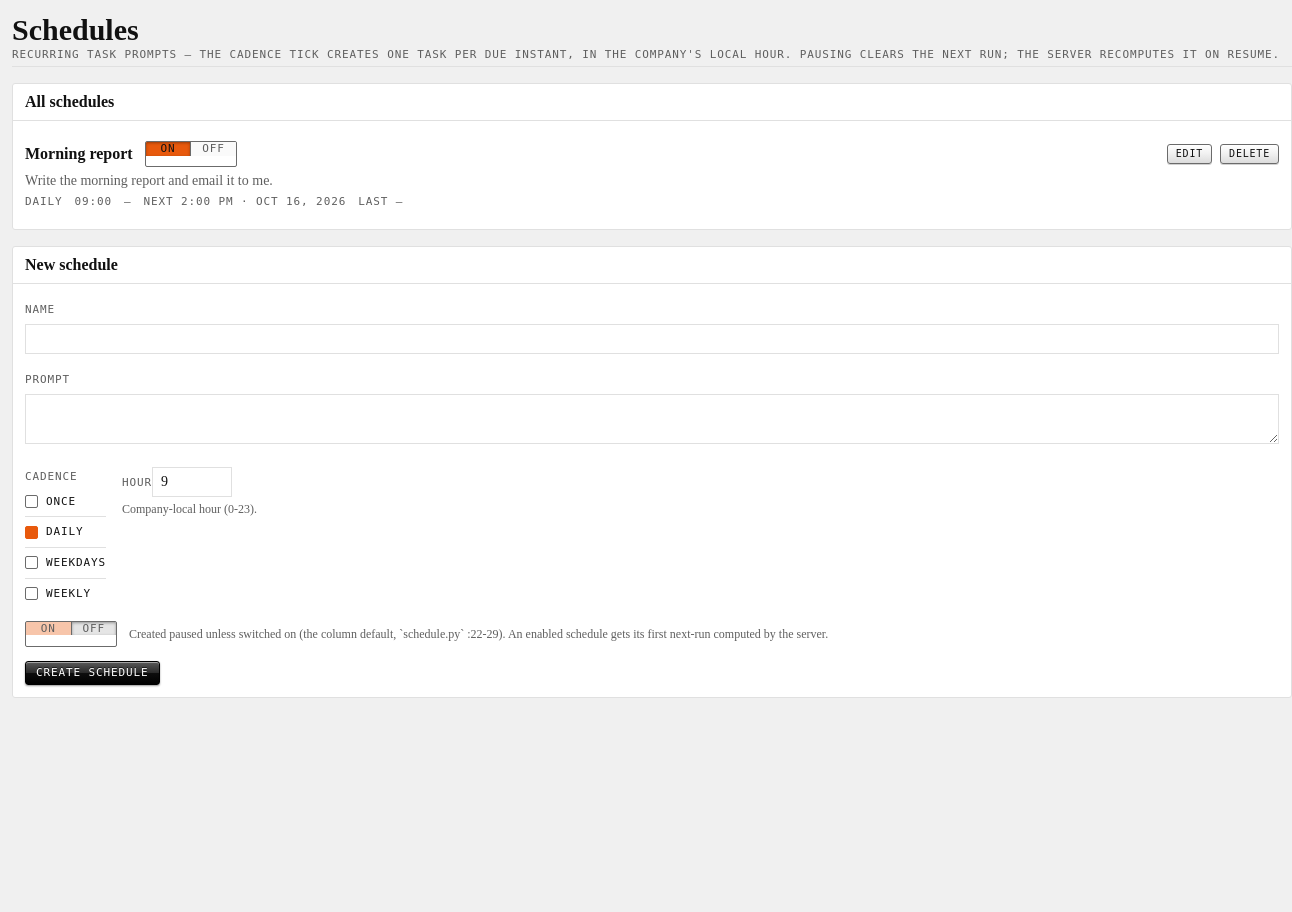
it: SchedulesPage — create (POST /schedules) › POSTs the exact body (enabled defaults false) and shows the server's row with no invented re-read
Expected: the element with test id "schedule-row-3" is shown, [25,133,1279,217]
Type "Nightly revenue report" into the field labelled "Name".
click(652, 338); type("Nightly revenue report")  # box [25,324,1279,354]
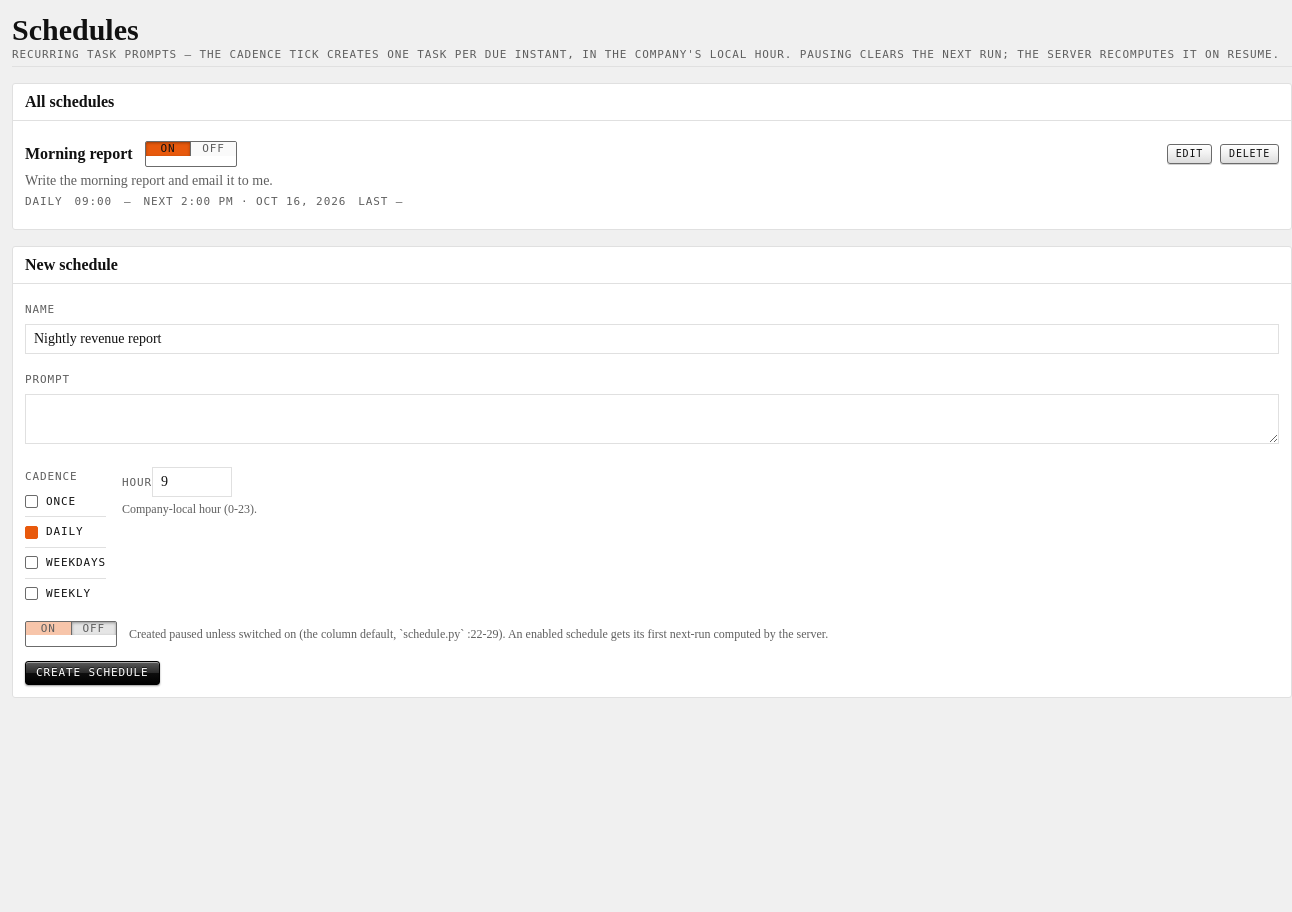
Type "Summarise today's revenue." into the text box labelled "Prompt".
click(652, 418); type("Summarise today's revenue.")  # box [25,394,1279,444]
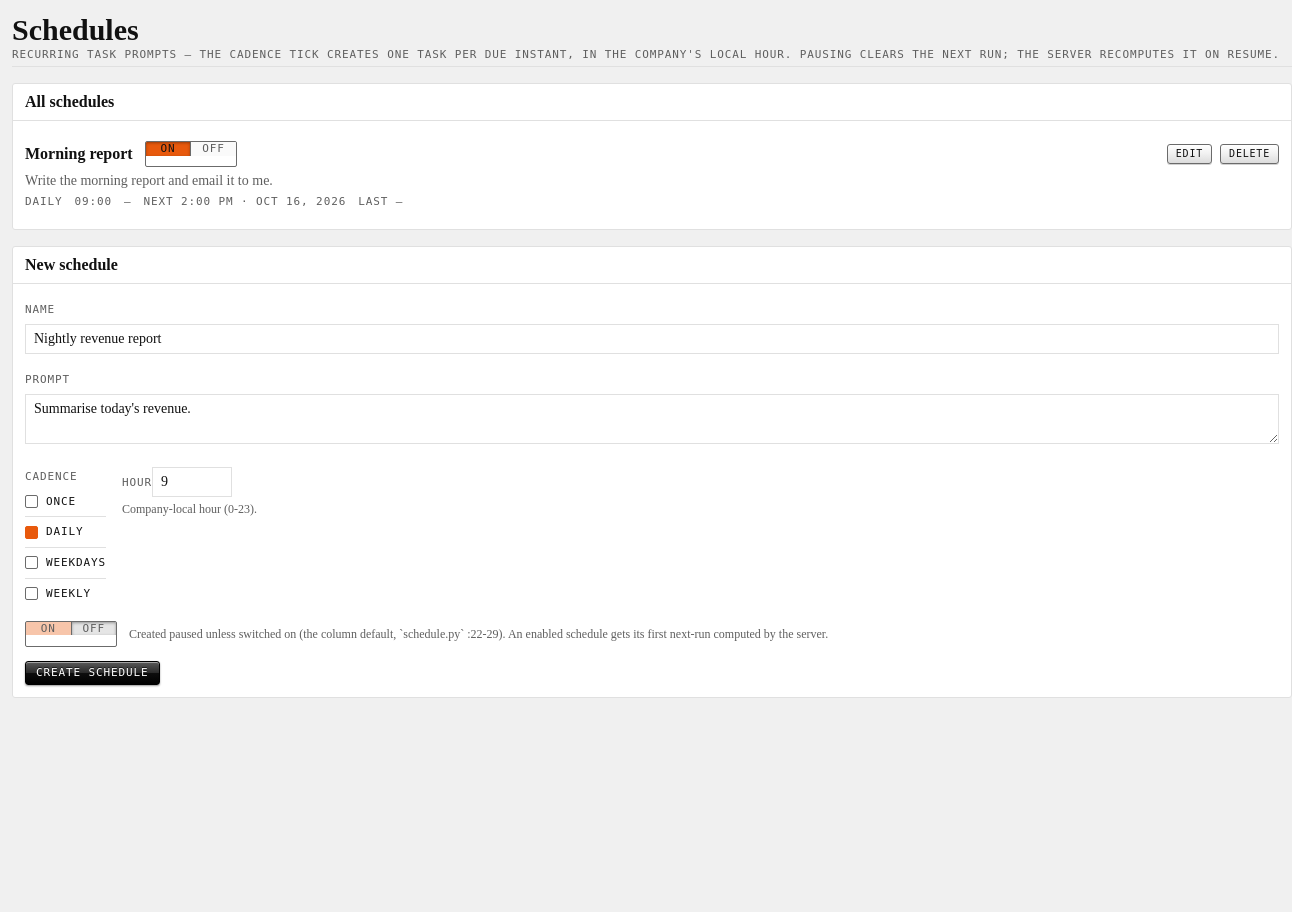
Replace the text in the number field labelled "Hour" with "22" at [192, 482], box [152,466,232,496]
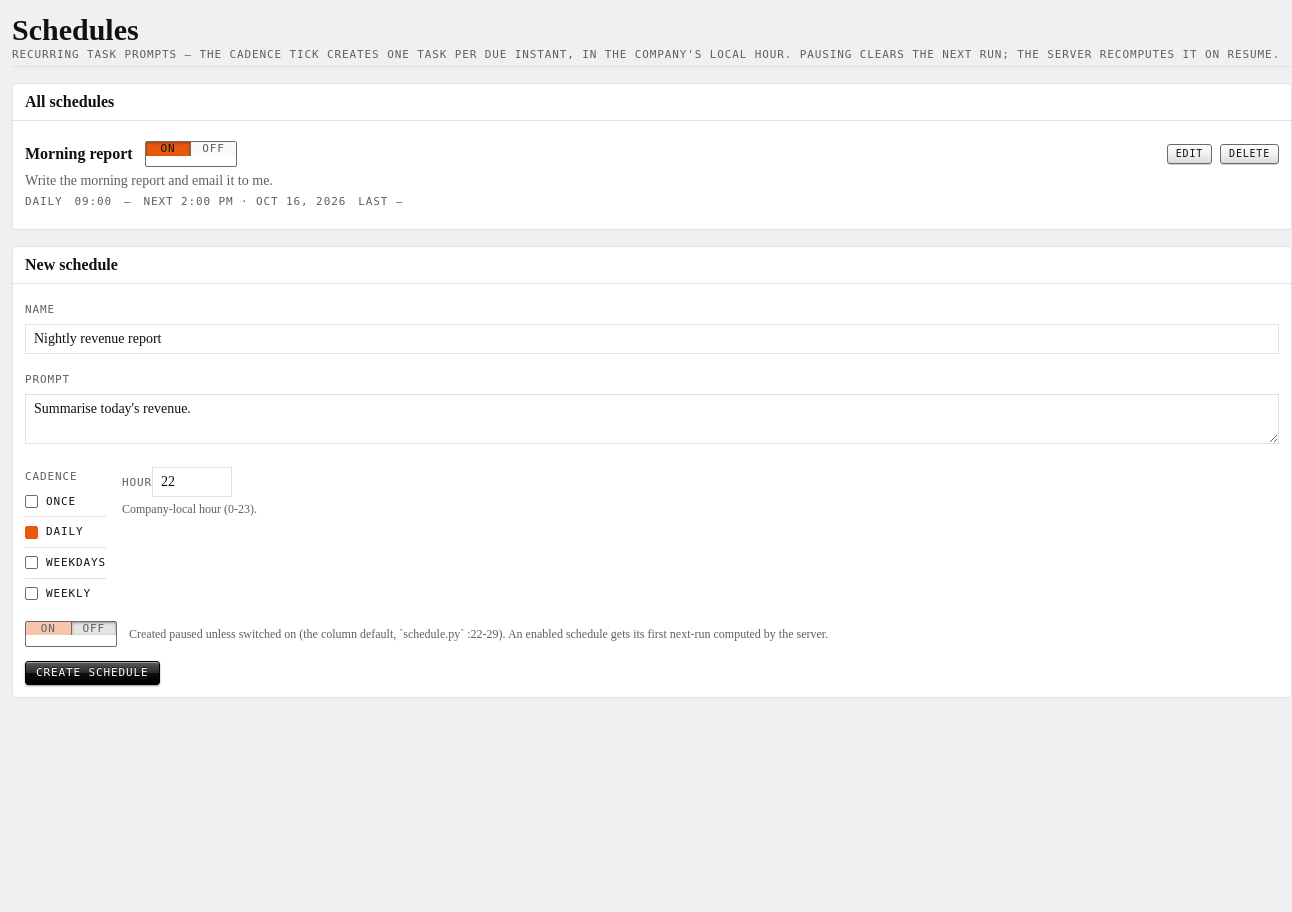
Click the button "Create schedule".
click(92, 673)  # box [25,660,160,685]
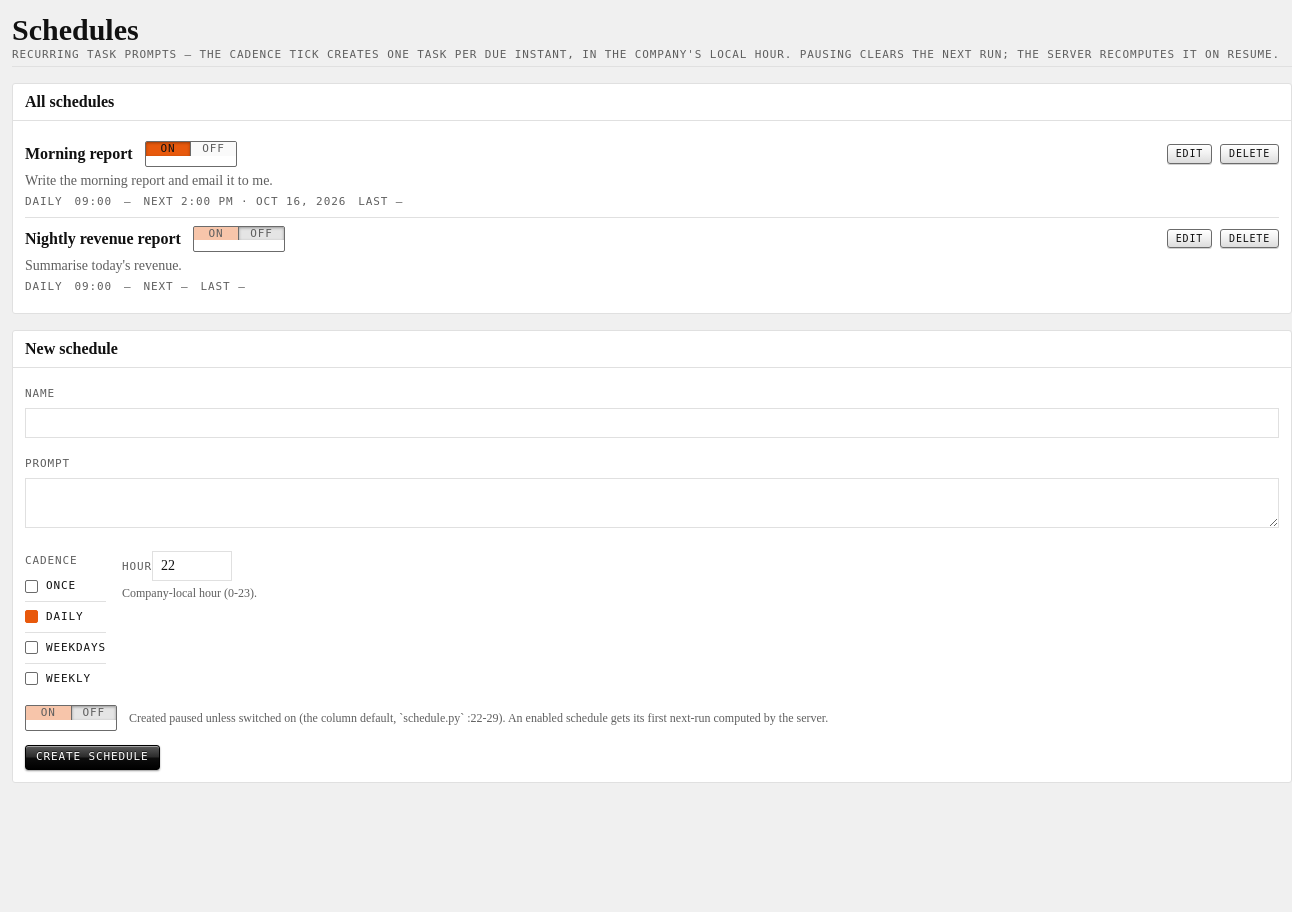
Now the element with test id "schedule-row-11" is shown, box [25,216,1279,301]
